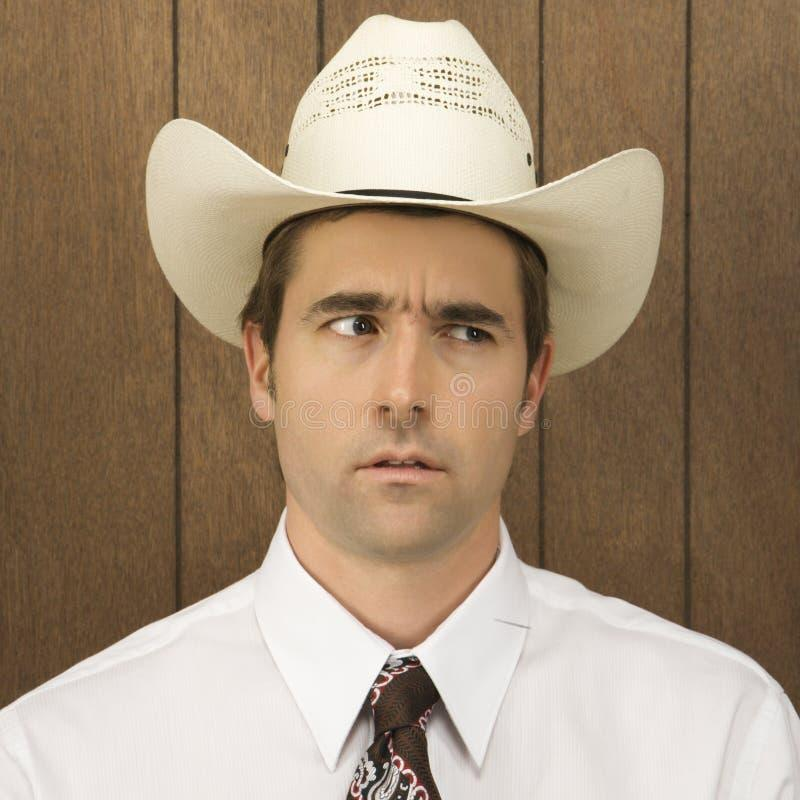cap: (146, 10, 674, 394)
